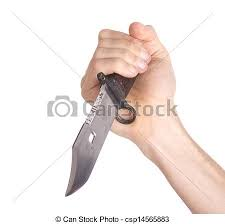knife: (63, 22, 149, 197)
